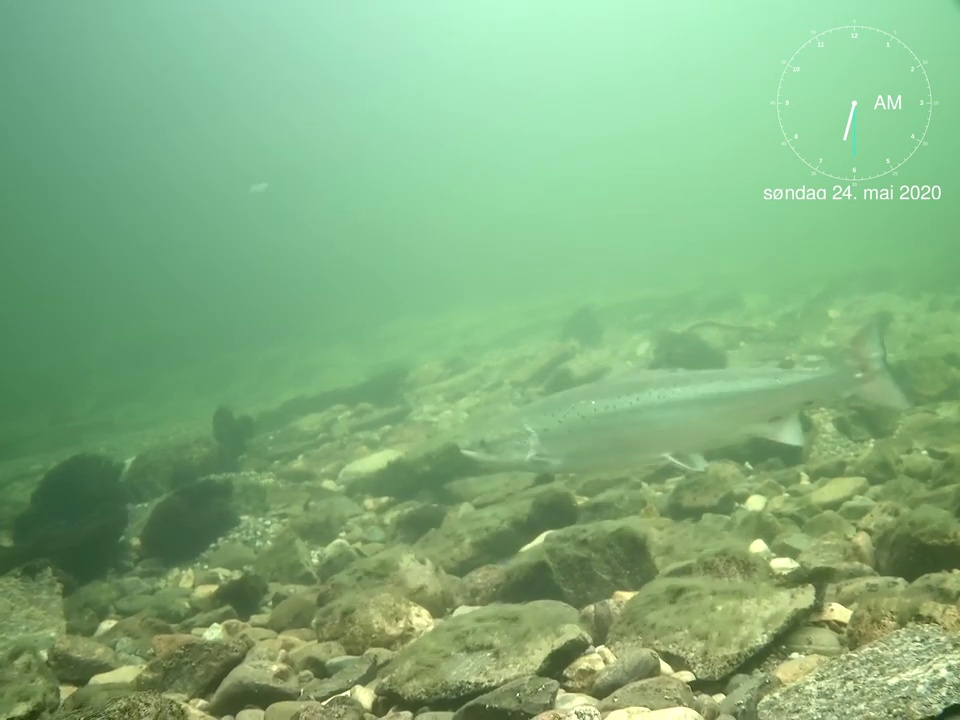salmon: (455, 312, 914, 472)
